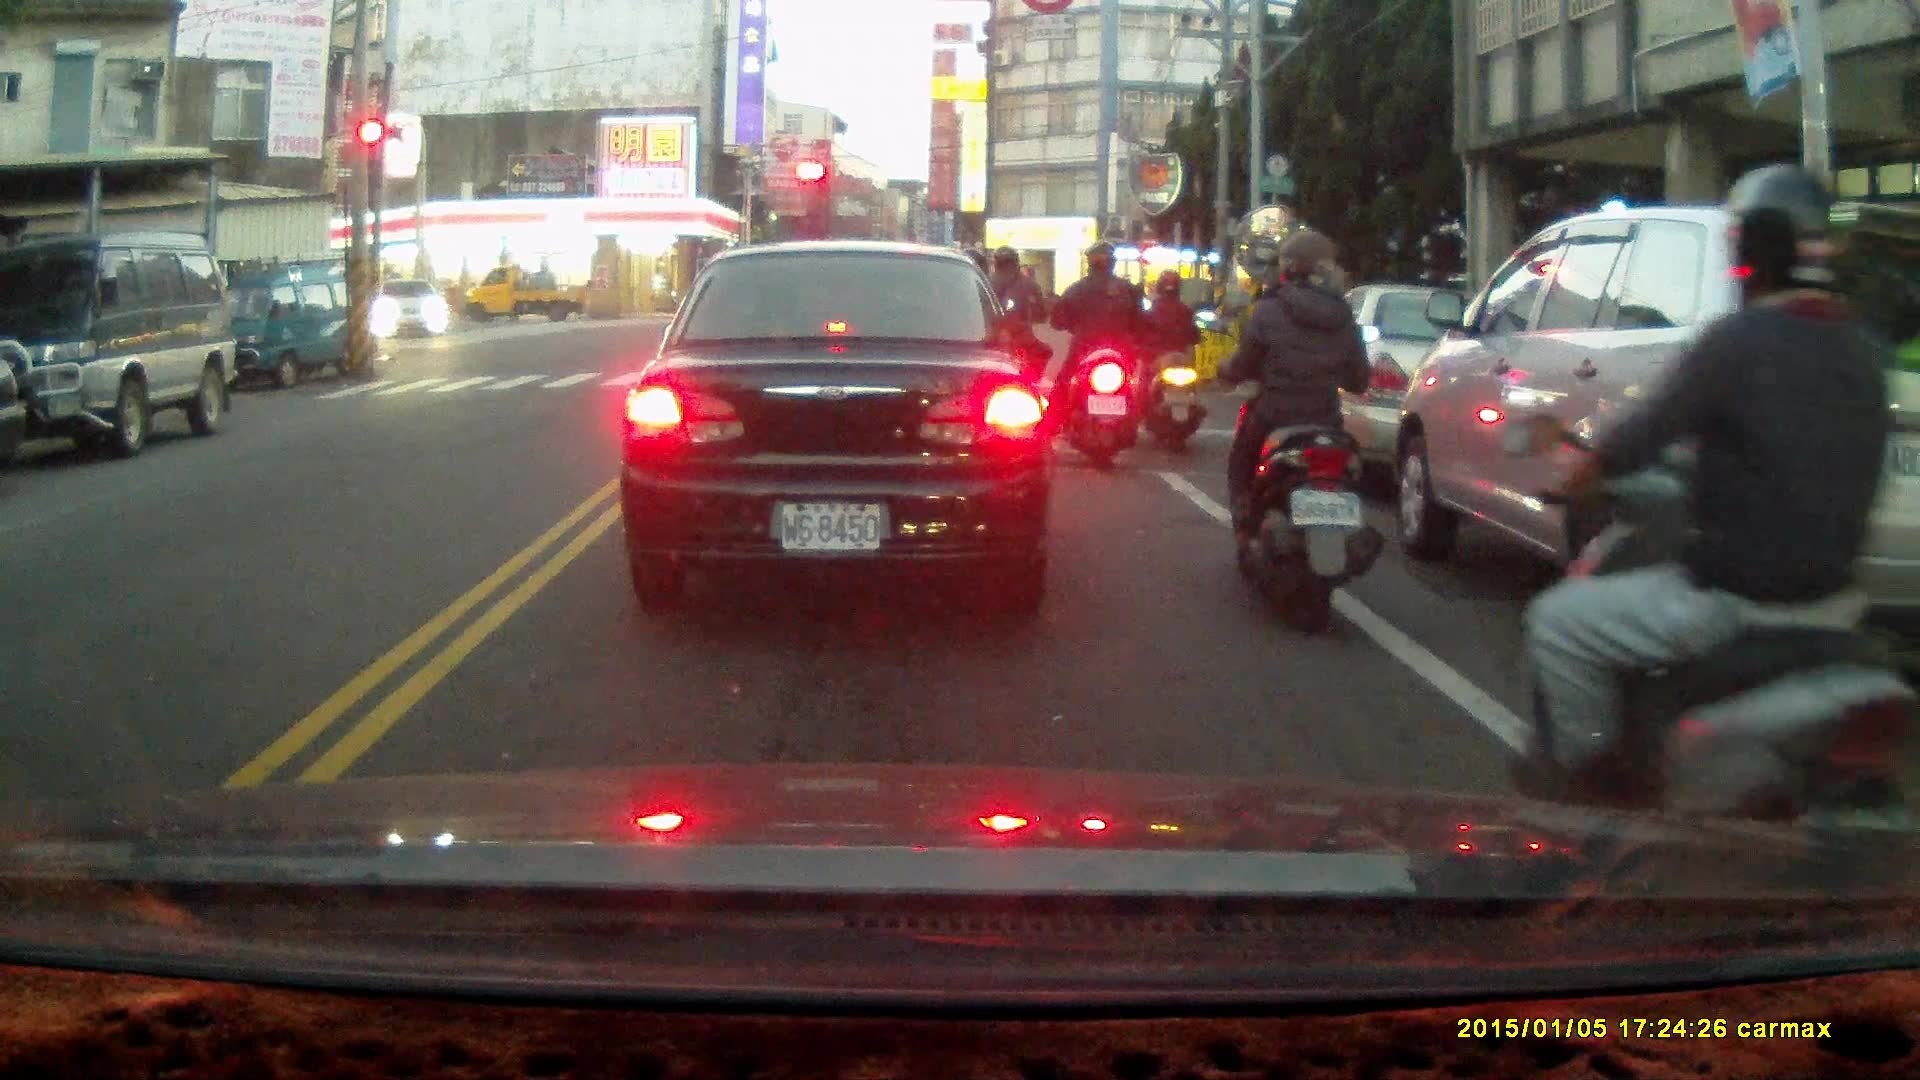rider: (1499, 161, 1920, 874), (1195, 225, 1385, 640), (1048, 243, 1141, 469), (962, 244, 1050, 447), (1134, 269, 1204, 450)
vehicle: (1381, 195, 1920, 685), (617, 243, 1061, 606), (1264, 282, 1572, 493), (1, 234, 239, 458), (194, 255, 381, 394), (457, 265, 590, 327), (372, 277, 451, 343)
